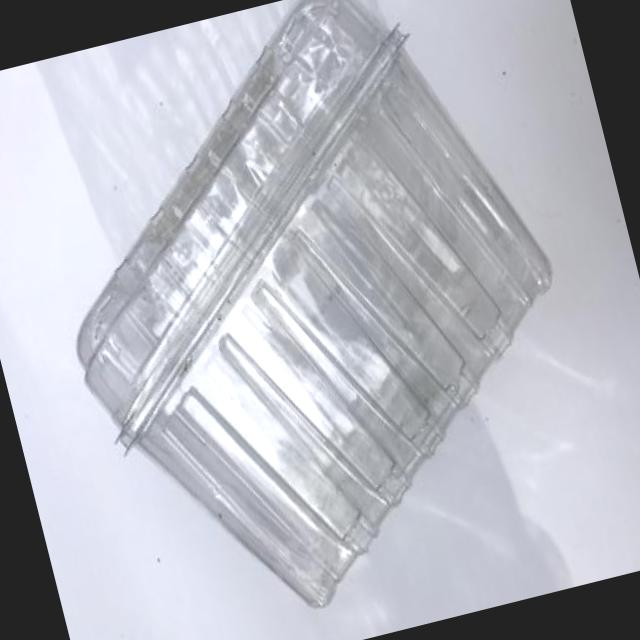Recycle: (6, 0, 618, 640)
